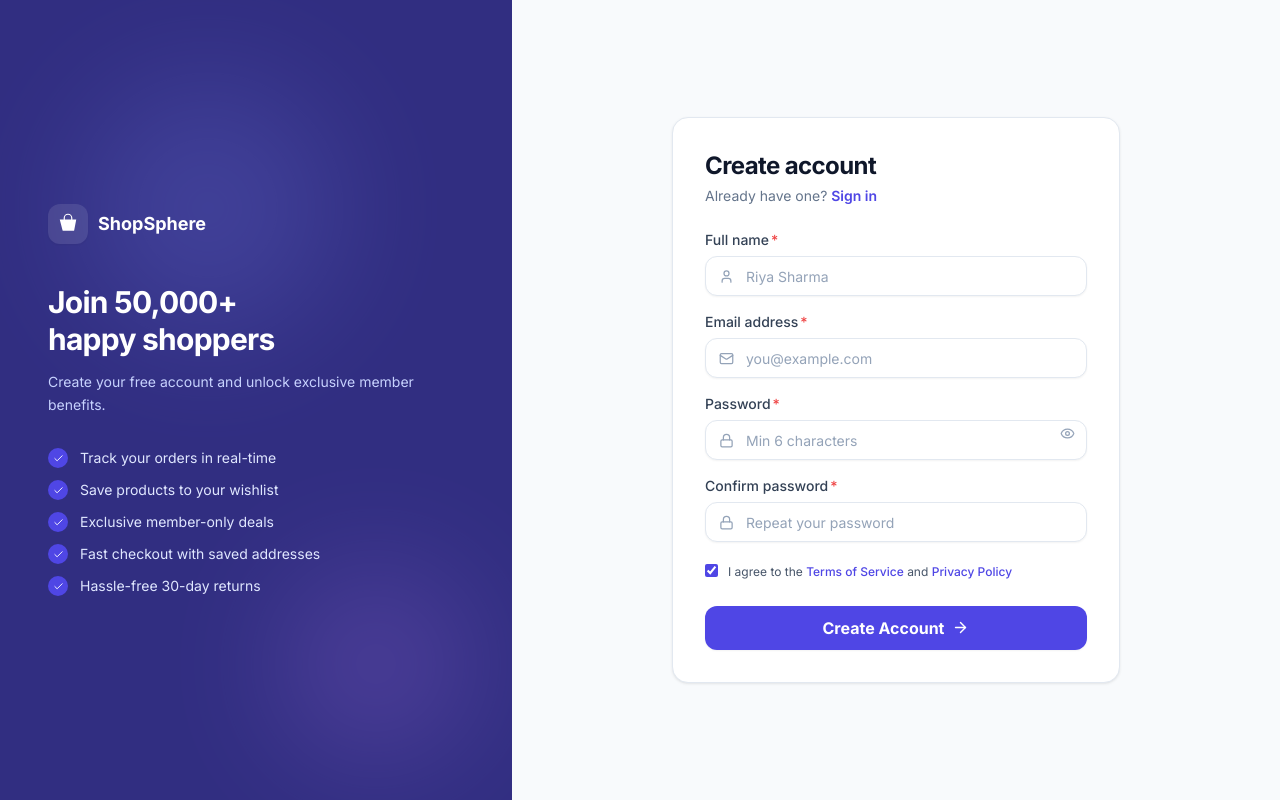
Scenario: RegisterPage QA Pass › validates required empty fields and prevents API request
Click the button "Create Account" at [896, 628], box [705, 606, 1087, 650]
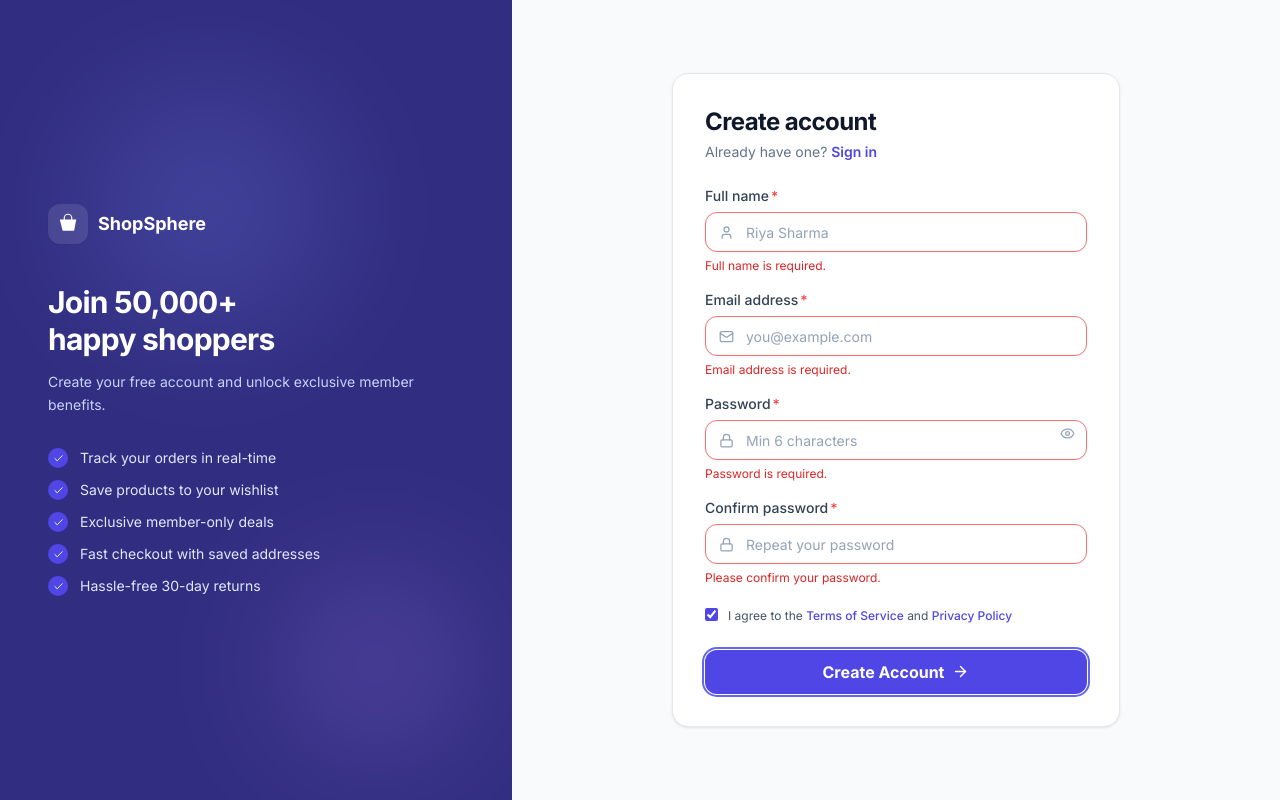
Result: the text "Full name is required." is shown at [705, 258, 826, 273]
Result: the text "Email address is required." is shown at [705, 362, 851, 377]
Result: the text "Password is required." is shown at [705, 466, 827, 481]
